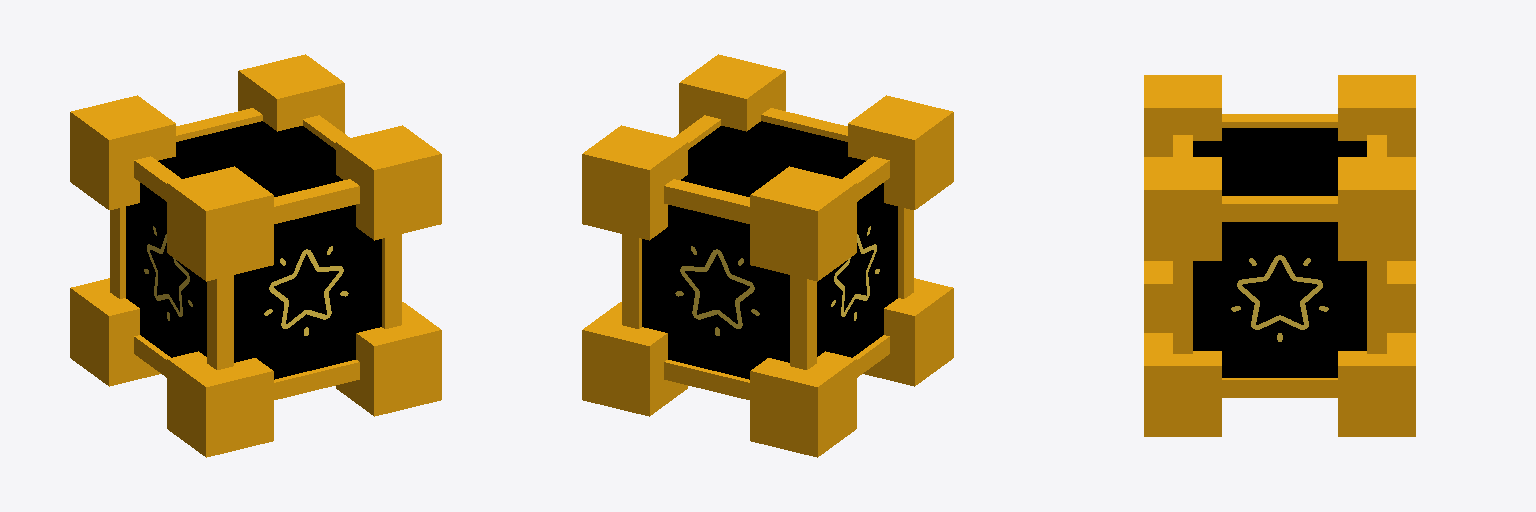
3 views of the same model, side by side, from view 1: azimuth 30°, elevation 25°; view 2: azimuth 150°, elevation 25°; view 3: azimuth 270°, elevation 25° (orthographic).
Parts seen in each view (by area): view 1: bonusScore; view 2: bonusScore; view 3: bonusScore.
Boxes of the visible parts, x1,y1,x2,y2 form: bonusScore: [70, 54, 441, 457]; bonusScore: [582, 54, 953, 457]; bonusScore: [1144, 75, 1415, 436].
Bounding box in the file's own units: 2.8 × 2.8 × 2.8.
4 materials, 1 textured.